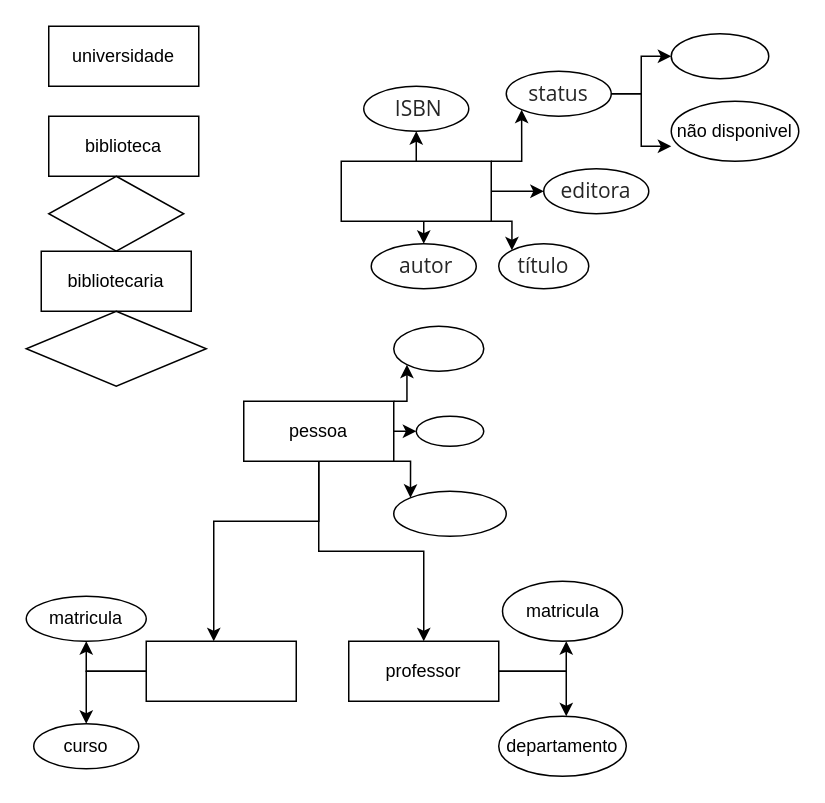
Image size: 825x803. Some labels were removed from this diagram. The centre of each missing label's shape, as x and y in pixels:
"aluno" belongs at (220,670).
"disponivel" belongs at (719,55).
"livro" belongs at (415,190).
"nome" belongs at (438,348).
"registra" belongs at (115,348).
"RG" belongs at (449,430).
"telefone" belongs at (449,513).
"trabalha" belongs at (115,213).
